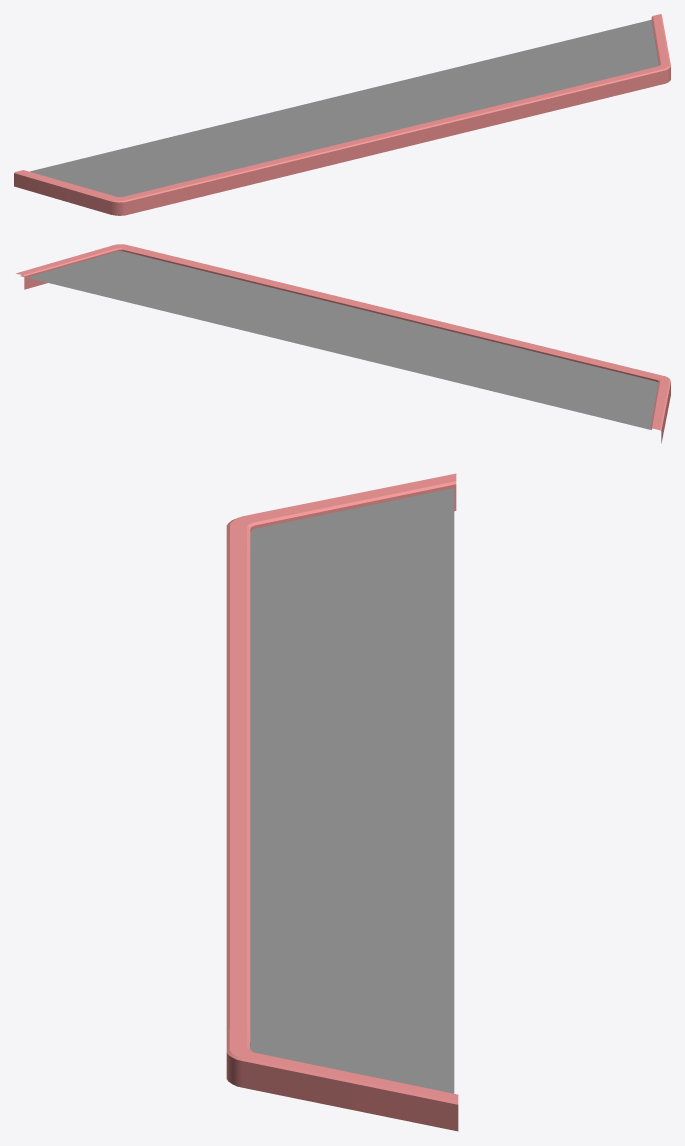
File: S_Envi_Umeda_Base_Parterre_04.gltf
3 renders of one model, top to bottom at view 1: azimuth 30°, elevation 25°; view 2: azimuth 150°, elevation 25°; view 3: azimuth 270°, elevation 25°, orthographic. The views are drawn at different scales.
Parts seen in each view (by area): view 1: S_Envi_Umeda_Base_Parterre_04; view 2: S_Envi_Umeda_Base_Parterre_04; view 3: S_Envi_Umeda_Base_Parterre_04.
Part boxes in pixels (x1,y1,x2,y2): S_Envi_Umeda_Base_Parterre_04: (14, 14, 670, 215); S_Envi_Umeda_Base_Parterre_04: (16, 244, 670, 443); S_Envi_Umeda_Base_Parterre_04: (226, 473, 458, 1131).
Bounding box in the file's own units: 13.38 × 0.2794 × 2.08.
